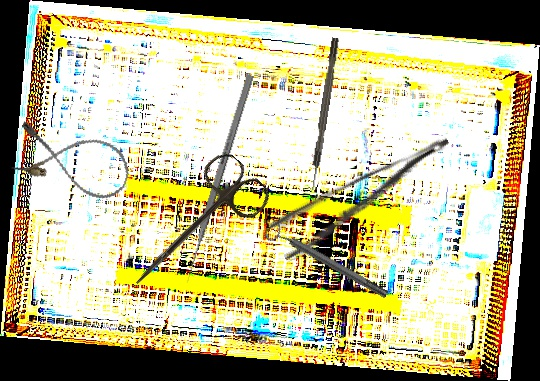Cannula: (8, 117, 136, 205)
Dressing Forceps: (266, 133, 466, 264)
Fixation Ring: (263, 218, 392, 306)
Hook Surgical: (308, 37, 340, 191)
Iris Scissors: (113, 146, 276, 311)
Pusher: (182, 74, 255, 284)
